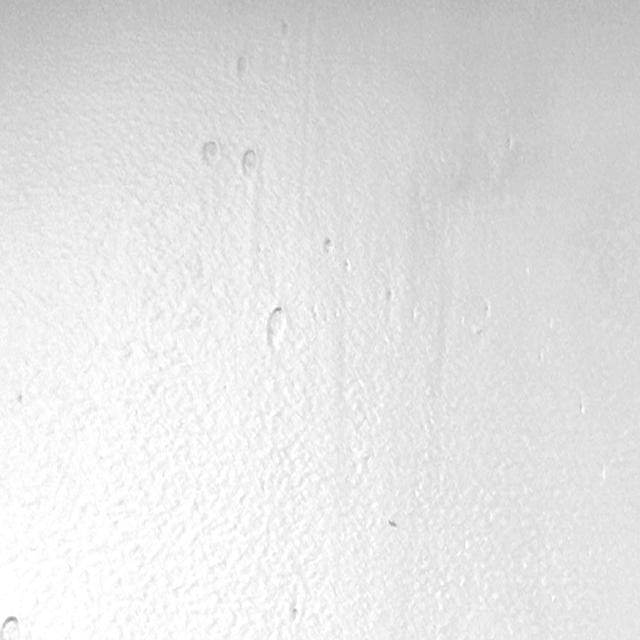pin holes: (264, 304, 290, 348), (2, 611, 28, 640), (199, 140, 223, 170), (240, 149, 263, 178), (232, 55, 252, 81), (478, 300, 496, 323), (320, 237, 336, 259), (278, 20, 294, 42), (289, 605, 305, 624), (382, 289, 397, 306), (340, 259, 354, 276), (15, 392, 29, 408), (389, 516, 405, 530), (536, 344, 544, 366), (579, 398, 586, 422), (505, 134, 512, 152)
